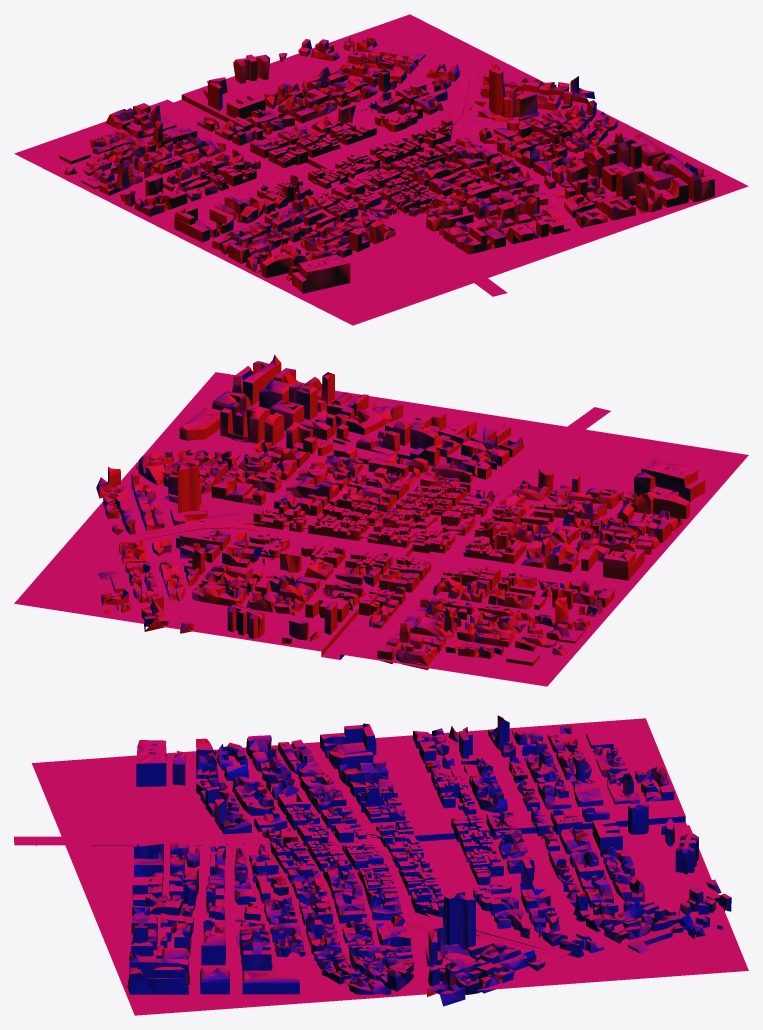
Rendered from cityWithHighway.fbx.
3 renders of one model, top to bottom at view 1: azimuth 30°, elevation 25°; view 2: azimuth 150°, elevation 25°; view 3: azimuth 270°, elevation 25°, orthographic. The views are drawn at different scales.
Parts seen in each view (by area): view 1: Ground, LOMEX_downtown:polySurface523, LOMEX_downtown:bldg15, LOMEX_downtown:polySurface154, LOMEX_downtown:bldg20, LOMEX_downtown:bldg25, LOMEX_downtown:bldg21, Asphalt_MainRoad, LOMEX_downtown:bldg16, LOMEX_downtown:polySurface21595, polySurface21595, bldg21 (+9 smaller); view 2: Ground, LOMEX_downtown:polySurface523, LOMEX_downtown:bldg15, LOMEX_downtown:polySurface154, LOMEX_downtown:bldg20, LOMEX_downtown:bldg25, LOMEX_downtown:bldg21, Asphalt_MainRoad, LOMEX_downtown:bldg16, LOMEX_downtown:polySurface21595, polySurface21595, bldg21 (+12 smaller); view 3: Ground, LOMEX_downtown:polySurface154, LOMEX_downtown:bldg15, LOMEX_downtown:bldg20, LOMEX_downtown:polySurface523, LOMEX_downtown:bldg25, LOMEX_downtown:bldg21, Asphalt_MainRoad, LOMEX_downtown:bldg16, LOMEX_downtown:polySurface21595, polySurface21595, bldg21 (+12 smaller).
Boxes of the visible parts, x1,y1,x2,y2 form: Ground: (14, 14, 748, 325); LOMEX_downtown:polySurface523: (408, 154, 662, 254); LOMEX_downtown:bldg15: (64, 161, 369, 293); LOMEX_downtown:polySurface154: (207, 37, 569, 121); LOMEX_downtown:bldg20: (493, 76, 714, 207); LOMEX_downtown:bldg25: (89, 103, 243, 184); LOMEX_downtown:bldg21: (202, 77, 411, 145); Asphalt_MainRoad: (217, 69, 507, 296); LOMEX_downtown:bldg16: (59, 148, 395, 244); LOMEX_downtown:polySurface21595: (410, 128, 504, 186); polySurface21595: (378, 148, 445, 213); bldg21: (296, 112, 417, 157); Ground: (14, 372, 748, 686); LOMEX_downtown:polySurface523: (286, 372, 523, 499); LOMEX_downtown:bldg15: (520, 458, 705, 655); LOMEX_downtown:polySurface154: (98, 460, 291, 643); LOMEX_downtown:bldg20: (96, 354, 309, 502); LOMEX_downtown:bldg25: (377, 578, 532, 670); LOMEX_downtown:bldg21: (248, 536, 381, 641); Asphalt_MainRoad: (115, 407, 610, 632); LOMEX_downtown:bldg16: (499, 468, 556, 665); LOMEX_downtown:polySurface21595: (242, 476, 396, 516); polySurface21595: (322, 484, 467, 526); bldg21: (248, 532, 392, 574); Ground: (31, 718, 748, 1015); LOMEX_downtown:polySurface154: (425, 833, 731, 994); LOMEX_downtown:bldg15: (136, 715, 572, 816); LOMEX_downtown:bldg20: (127, 915, 465, 1006); LOMEX_downtown:polySurface523: (129, 842, 332, 959); LOMEX_downtown:bldg25: (469, 746, 674, 813); LOMEX_downtown:bldg21: (476, 804, 675, 905); Asphalt_MainRoad: (14, 828, 592, 957); LOMEX_downtown:bldg16: (214, 731, 613, 834); LOMEX_downtown:polySurface21595: (323, 860, 405, 935); polySurface21595: (271, 841, 395, 897); bldg21: (460, 831, 514, 911).
Size of the model in its own units: 485 by 47.99 by 507.
